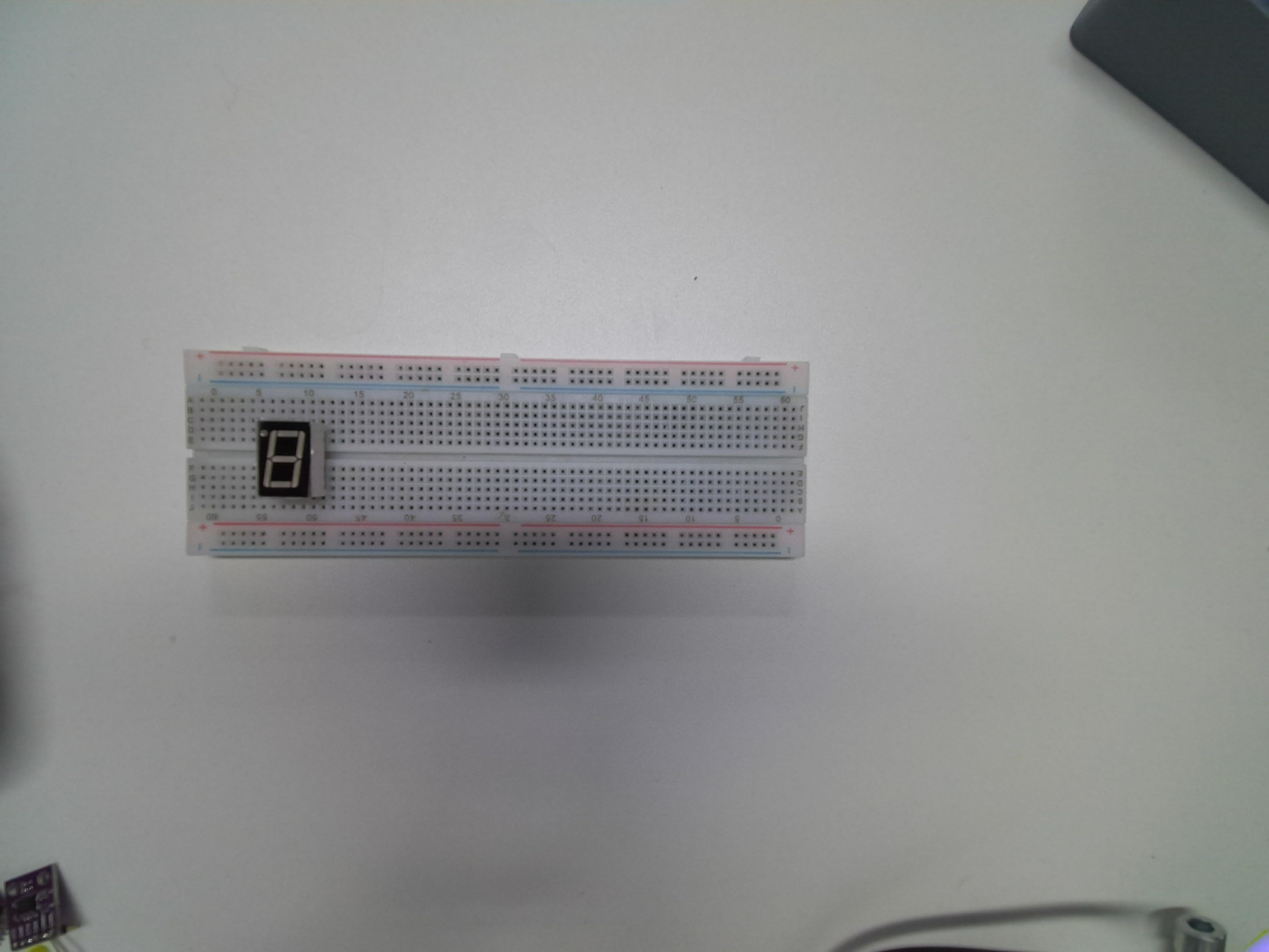base: (183, 349, 814, 565)
digit-board: (255, 420, 323, 501)
